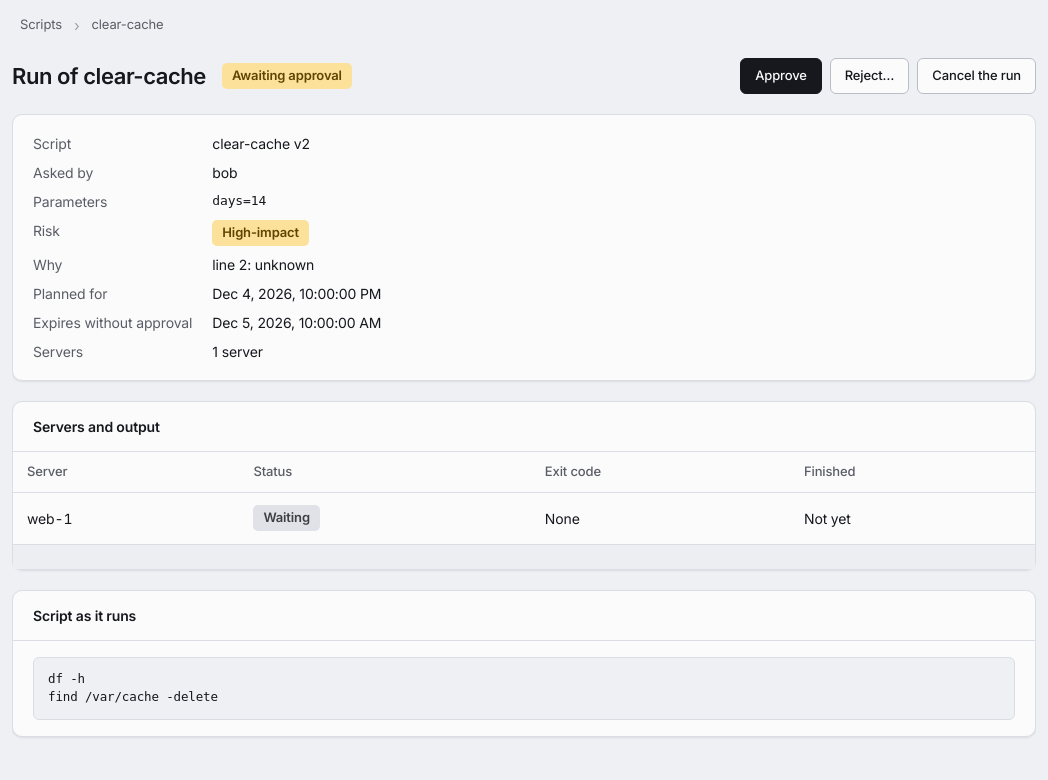
Test: script run page › shows the run and approves it
This screenshot has width=1048, height=780.
expect the heading "Run of clear-cache" is shown: met, box [12, 60, 206, 92]
expect the text "days=14" is shown: met, box [212, 193, 266, 208]
Click the button "Approve" at (781, 76), box [740, 58, 822, 94]
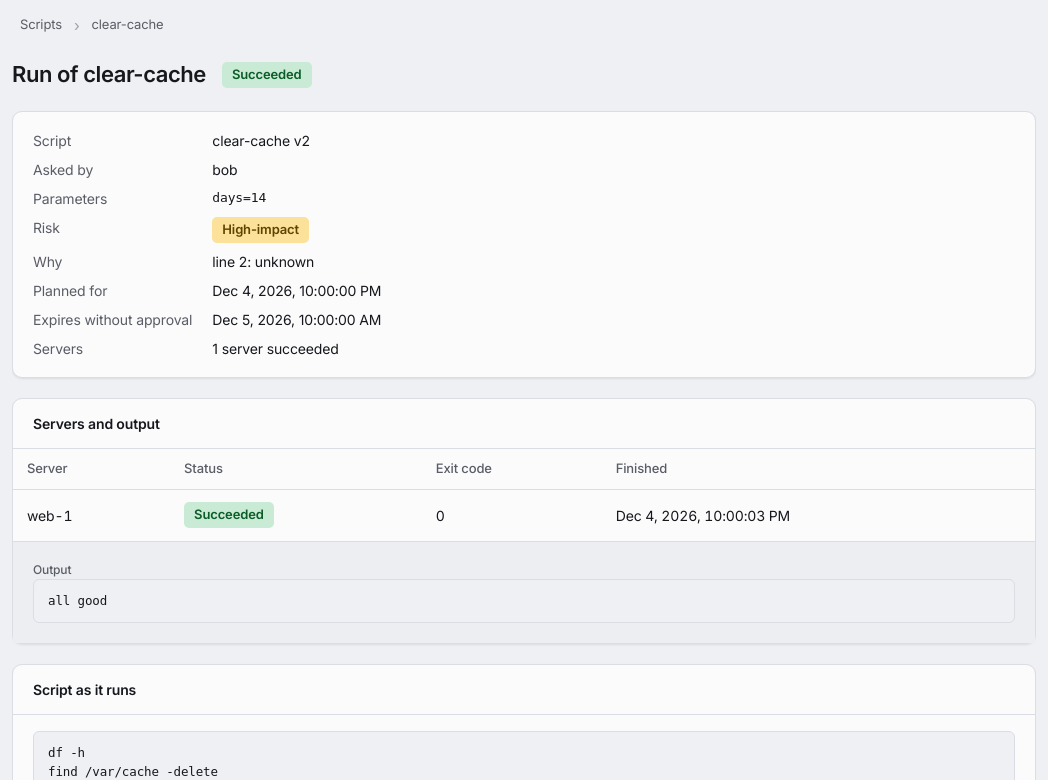
expect the text "all good" is shown: met, box [33, 578, 1015, 623]
